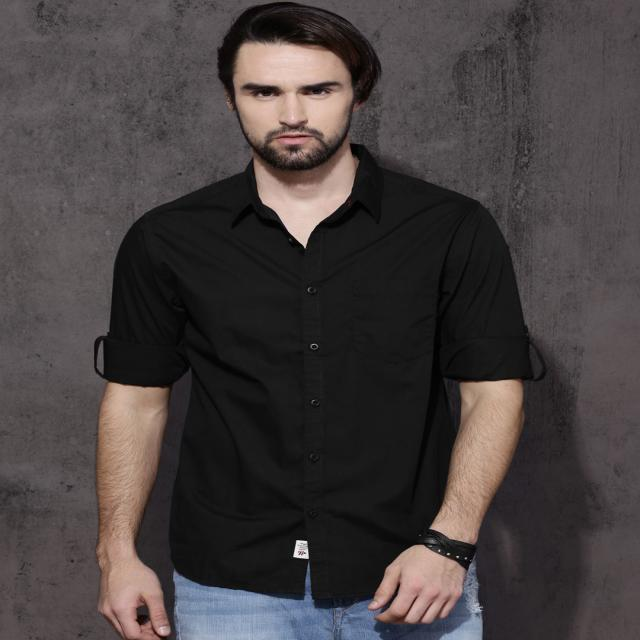human: (82, 0, 553, 640)
